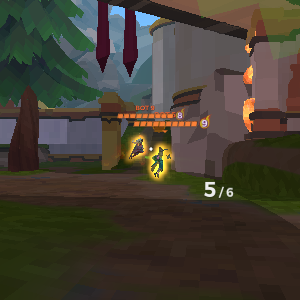model: (150, 141, 176, 180), (126, 132, 145, 161)
